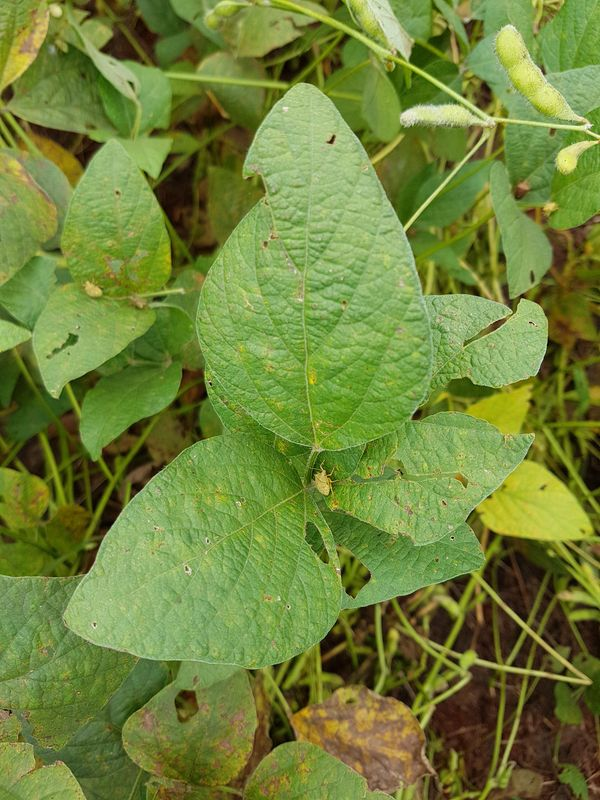Euschistus_heros_adulto: (508, 176, 534, 204)
Euschistus_heros_ninfa: (302, 459, 350, 504), (75, 273, 109, 307)
